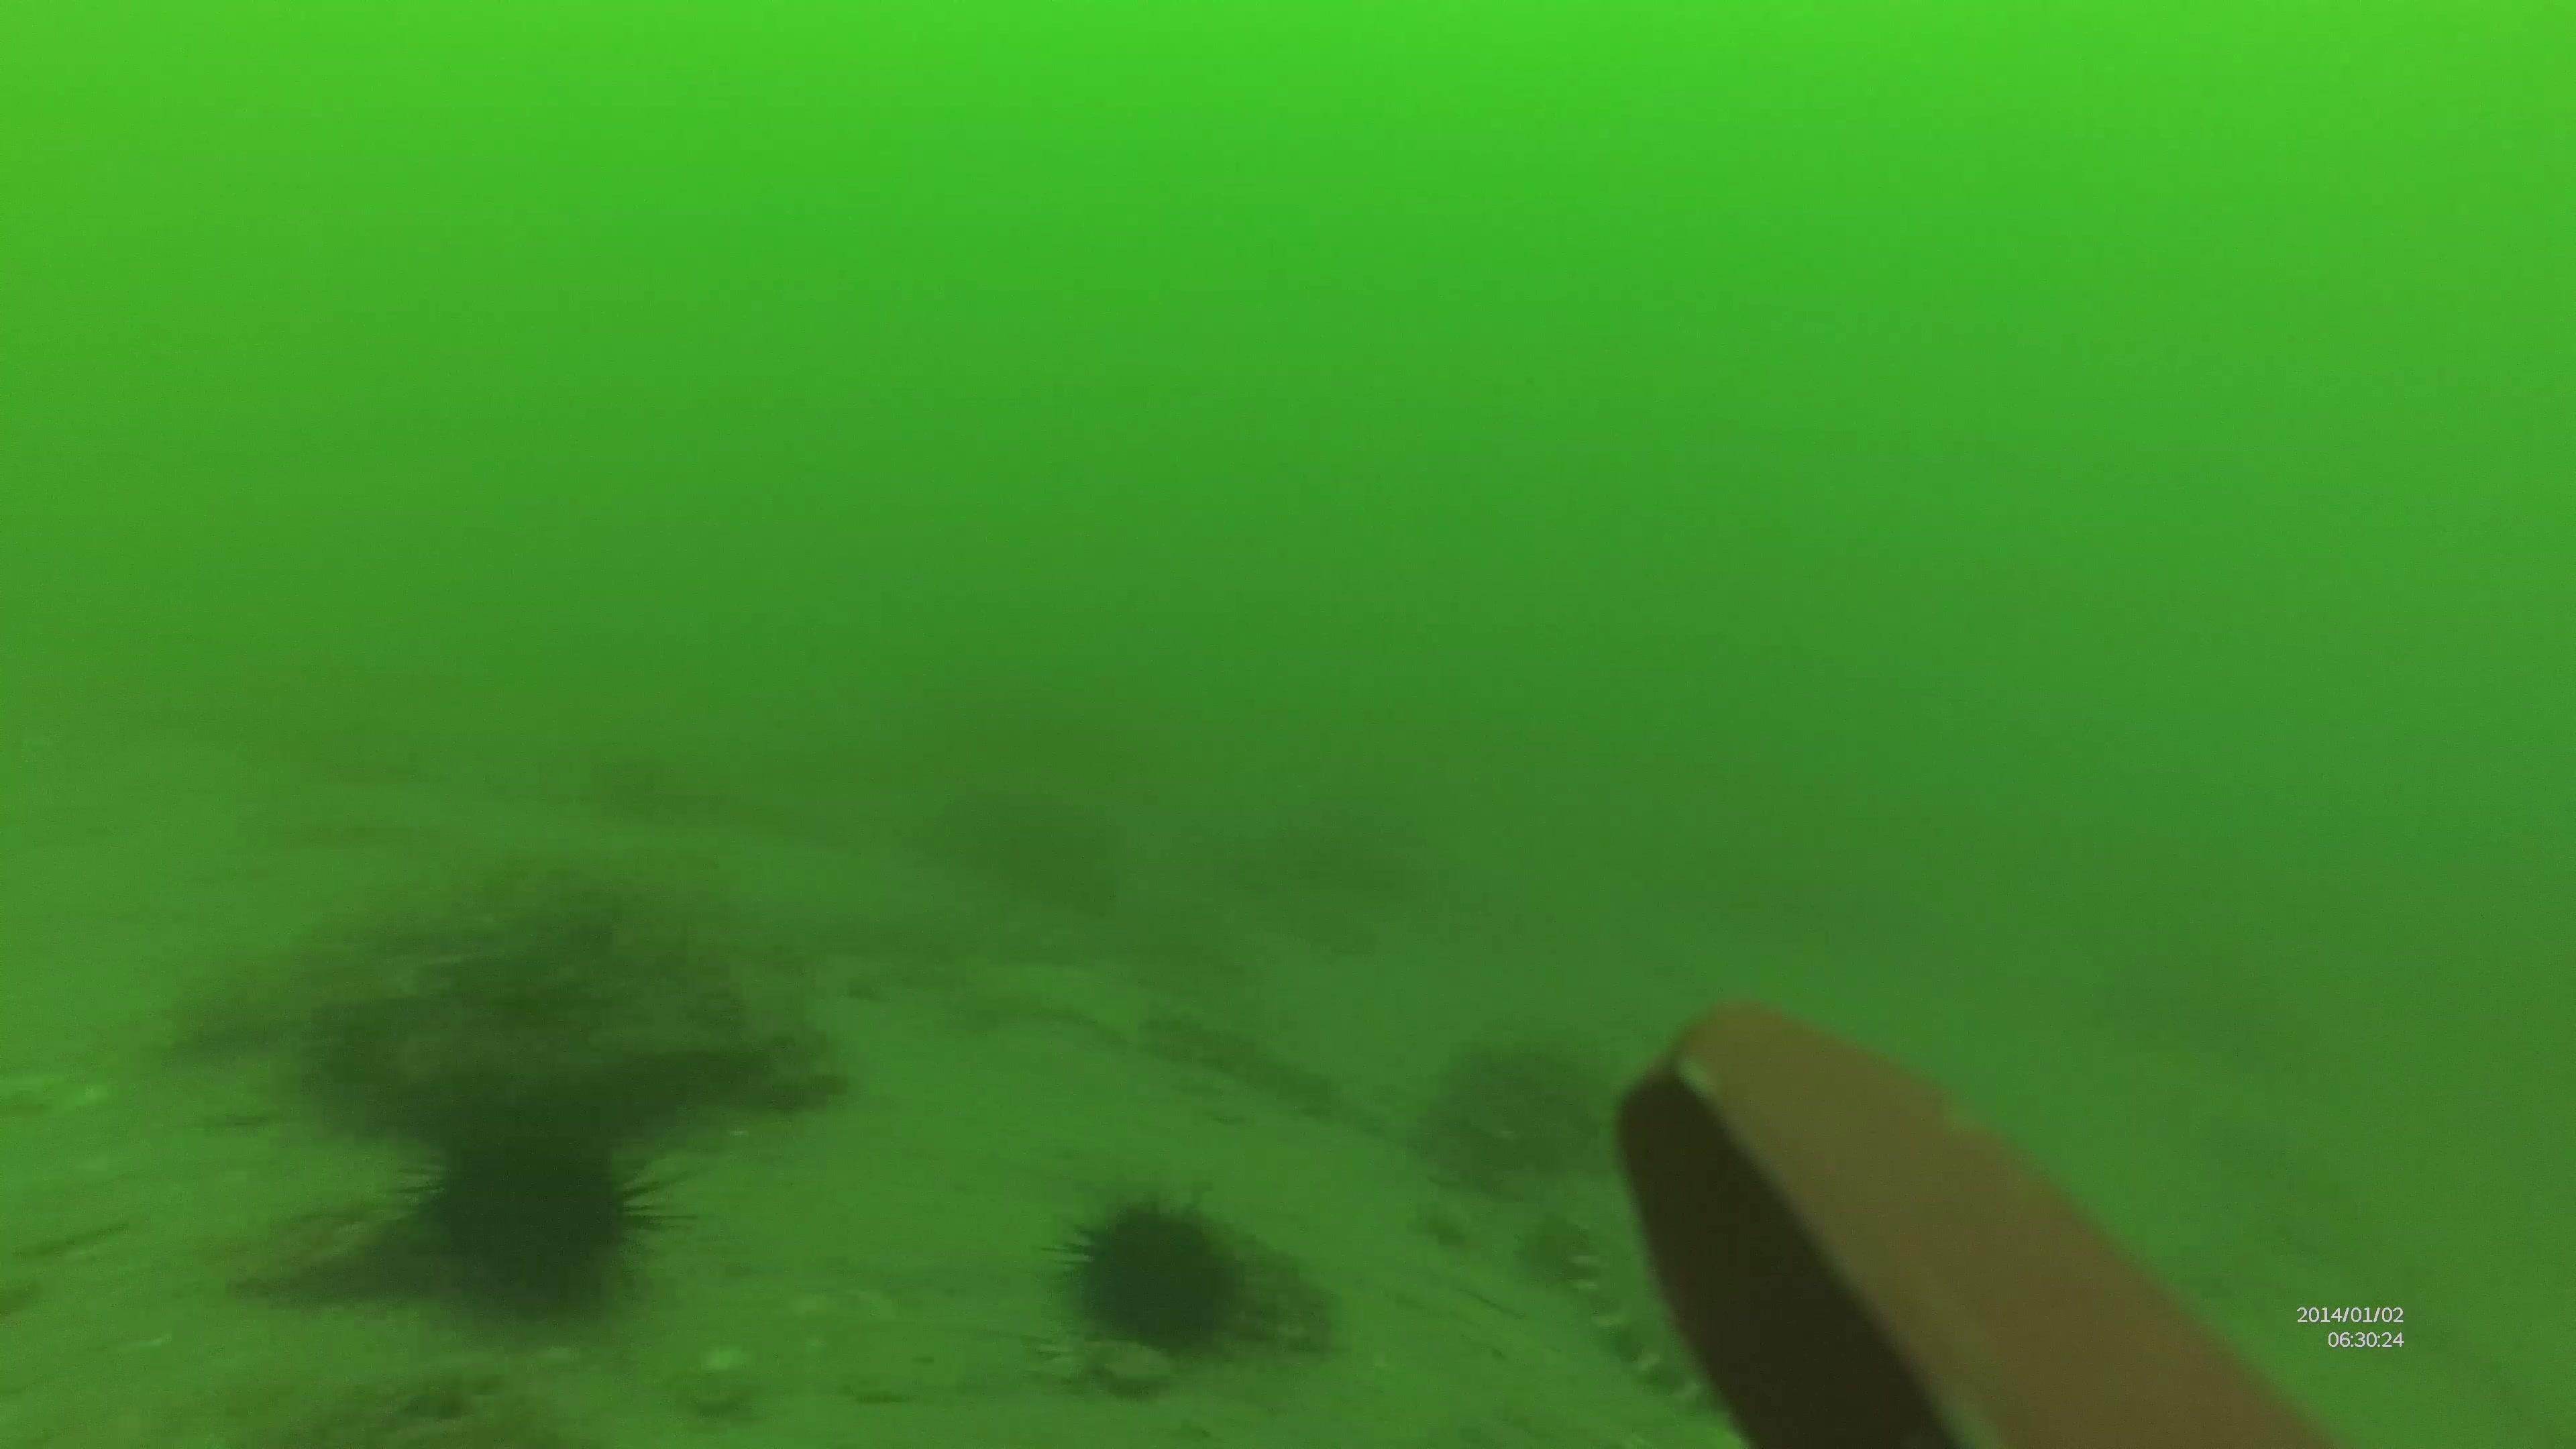echinus: (403, 1116, 704, 1302), (1058, 1182, 1288, 1366)
holothurian: (1557, 1177, 1790, 1424)
